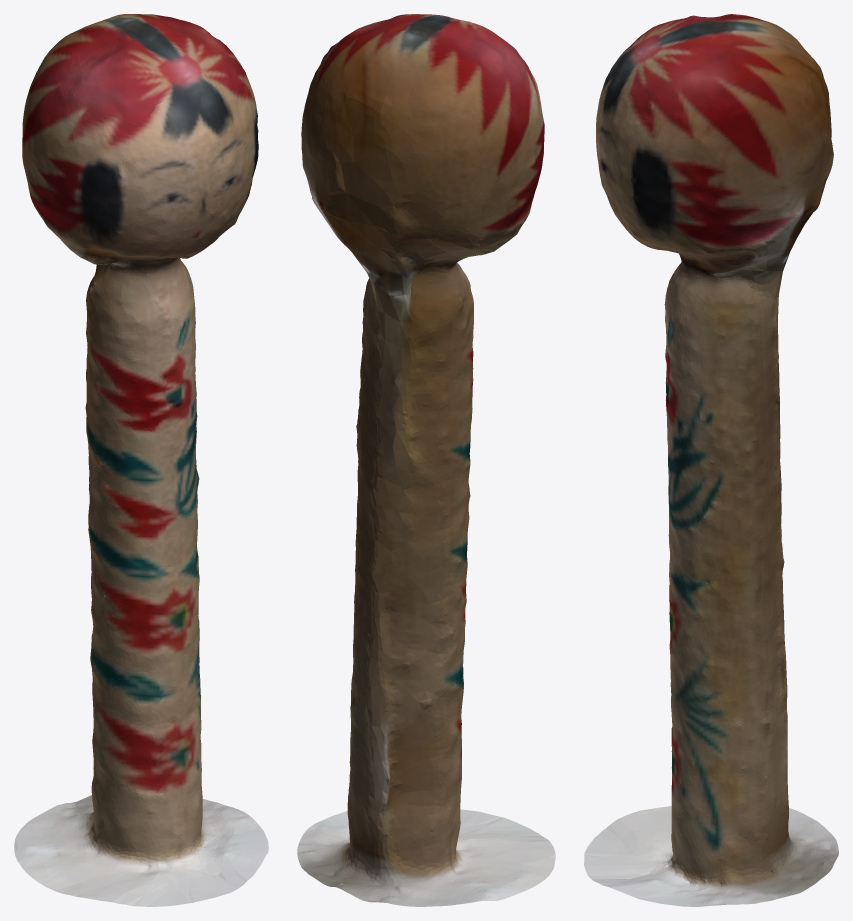
File: kokeshiS010.glb
3 views of the same model, side by side, from view 1: azimuth 30°, elevation 25°; view 2: azimuth 150°, elevation 25°; view 3: azimuth 270°, elevation 25° (orthographic).
Visible parts, largest first — view 1: mesh; view 2: mesh; view 3: mesh.
Part boxes in pixels (x1,y1,x2,y2): mesh: (14,14,268,906); mesh: (297,14,555,906); mesh: (584,14,838,906).
Bounding box in the file's own units: 0.0711 × 0.2532 × 0.07.
1 material, 1 textured.
